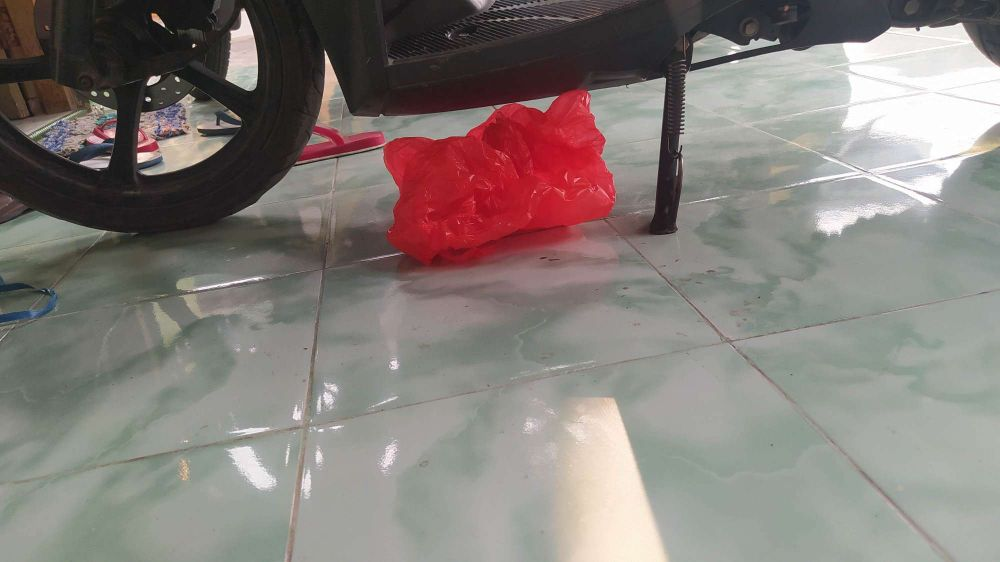plastik: (372, 116, 643, 265)
